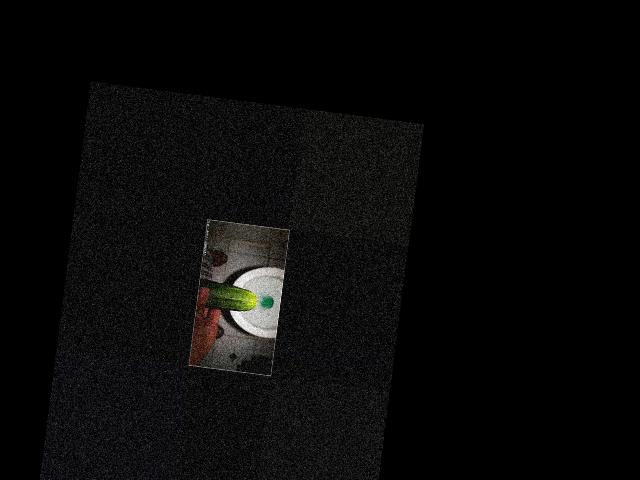cucumber: (195, 278, 258, 313)
